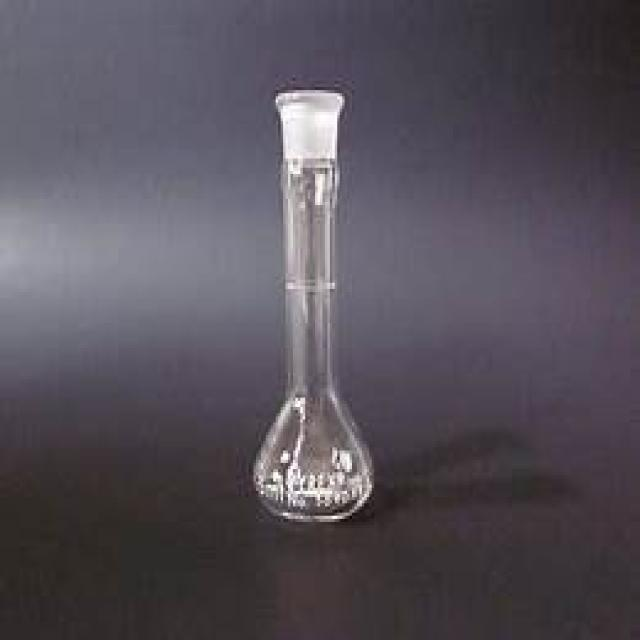Volumetric flask: (250, 81, 391, 517)
